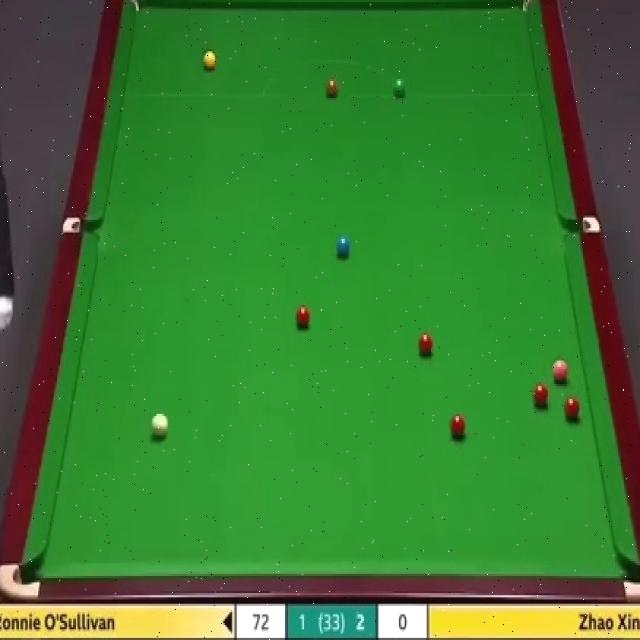blue-ball: (337, 235, 350, 259)
brown-ball: (326, 80, 339, 98)
green-ball: (394, 77, 406, 98)
pink-ball: (552, 357, 570, 384)
red-ball: (448, 413, 467, 440), (418, 329, 434, 356), (563, 398, 581, 420), (533, 384, 549, 406), (297, 305, 310, 330)
white-ball: (150, 412, 170, 442)
yellow-ball: (202, 51, 218, 73)
